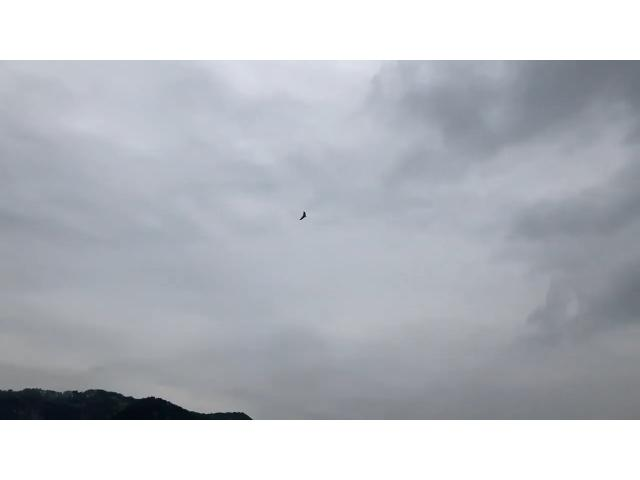Anti-Drone: (292, 211, 312, 224)
